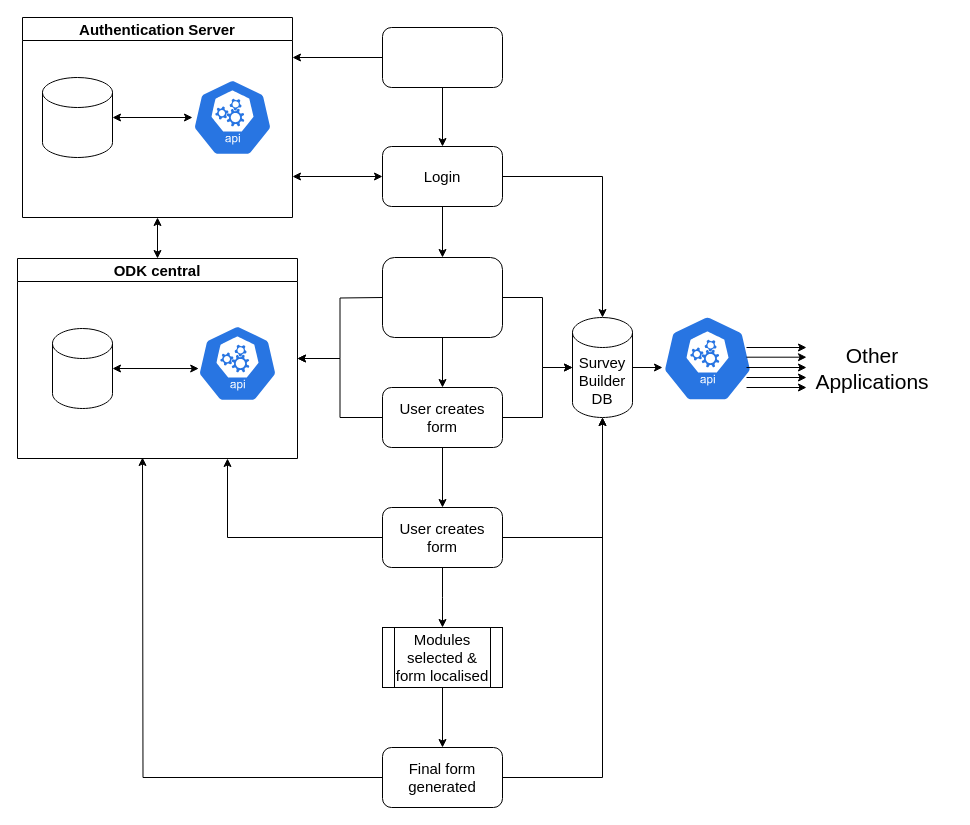
This 970x825 diagram has some shape labels left out. Here are the shapes that lost their labels. From the top down, the centre of each, then its label:
At [442,57]: "User Registers".
At [77,117]: "User db".
At [442,297]: "User creates project (Includes metadata)".
At [82,368]: "Central db".
